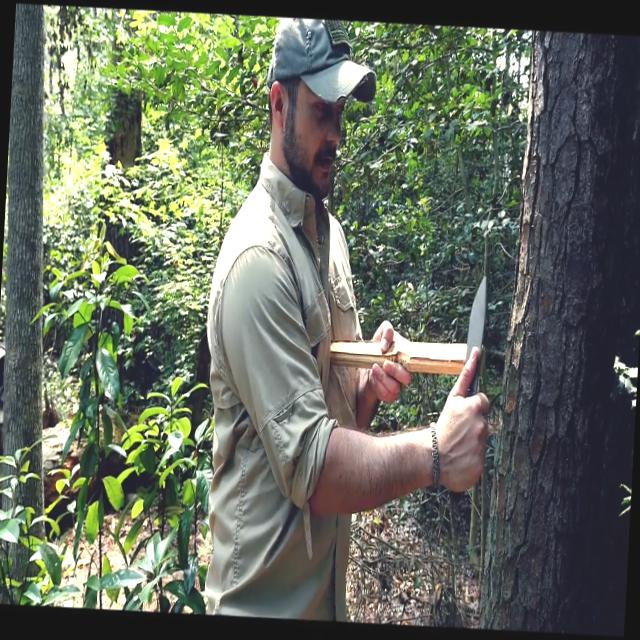knife: (447, 264, 506, 458)
